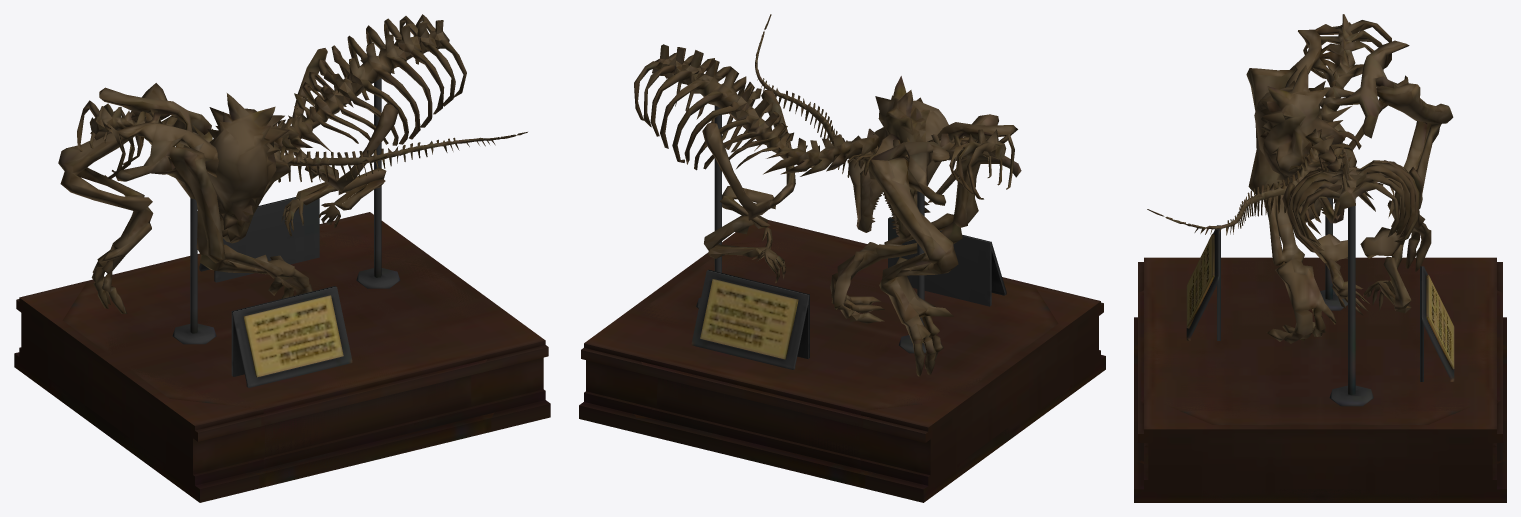
File: fossil-pachy.glb
The picture shows the model from 3 angles, left to right: view 1: azimuth 30°, elevation 25°; view 2: azimuth 150°, elevation 25°; view 3: azimuth 270°, elevation 25°; orthographic projection. The views are drawn at different scales.
Parts seen in each view (by area): view 1: mFossilBaseEnd (×2), mFtrFossilPachycephalosaurusA, mFtrFossilPachycephalosaurusB; view 2: mFossilBaseEnd (×2), mFtrFossilPachycephalosaurusA, mFtrFossilPachycephalosaurusB; view 3: mFossilBaseEnd (×2), mFtrFossilPachycephalosaurusB, mFtrFossilPachycephalosaurusA.
Part boxes in pixels (x1=…): mFossilBaseEnd (×2): x1=14, y1=78, x2=550, y2=502; mFtrFossilPachycephalosaurusA: x1=207, y1=14, x2=466, y2=243; mFtrFossilPachycephalosaurusB: x1=58, y1=83, x2=527, y2=313; mFossilBaseEnd (×2): x1=579, y1=105, x2=1105, y2=502; mFtrFossilPachycephalosaurusA: x1=634, y1=44, x2=948, y2=283; mFtrFossilPachycephalosaurusB: x1=755, y1=14, x2=1021, y2=376; mFossilBaseEnd (×2): x1=1134, y1=170, x2=1506, y2=502; mFtrFossilPachycephalosaurusB: x1=1147, y1=14, x2=1453, y2=343; mFtrFossilPachycephalosaurusA: x1=1254, y1=65, x2=1423, y2=315.
Bounding box in the file's own units: 20.07 × 17.76 × 18.33.
Materials: 4 (4 with a texture image).
